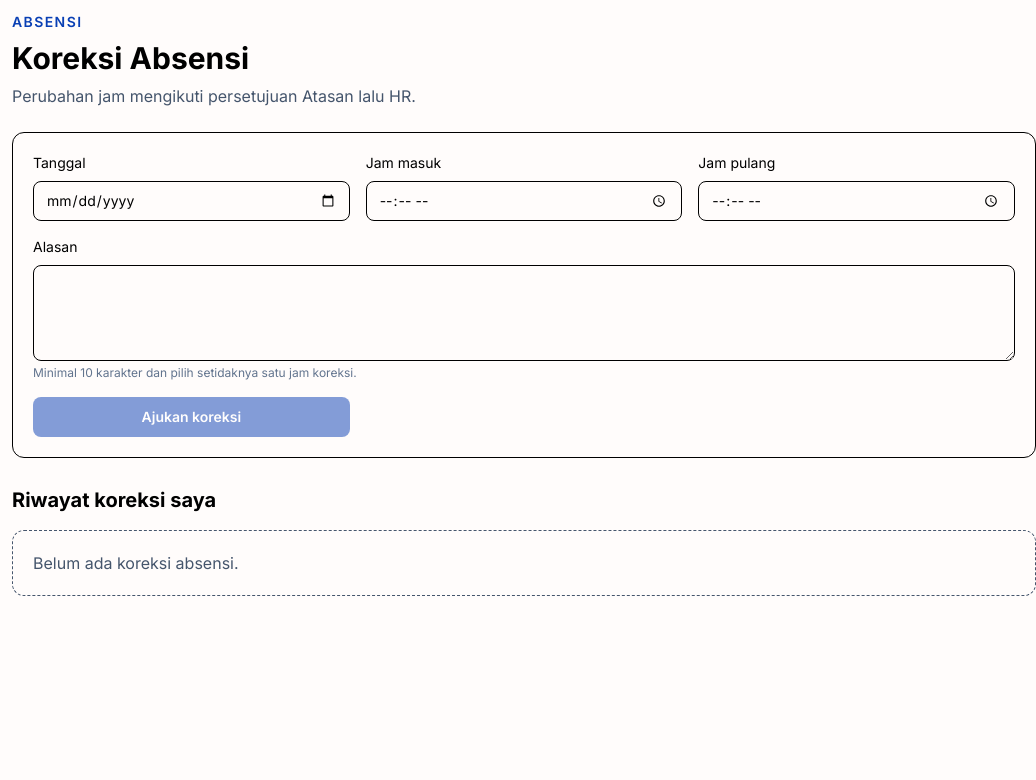
Test: AttendanceCorrectionPage › requires a date, one corrected time, and a meaningful reason
The width and height of the screenshot is (1036, 780).
Expected: the button "Ajukan koreksi" is disabled, [33, 397, 350, 437]
Step 1. Type "2026-08-14" into the date field labelled "Tanggal" → coordinates (191, 201), box [33, 181, 350, 221]
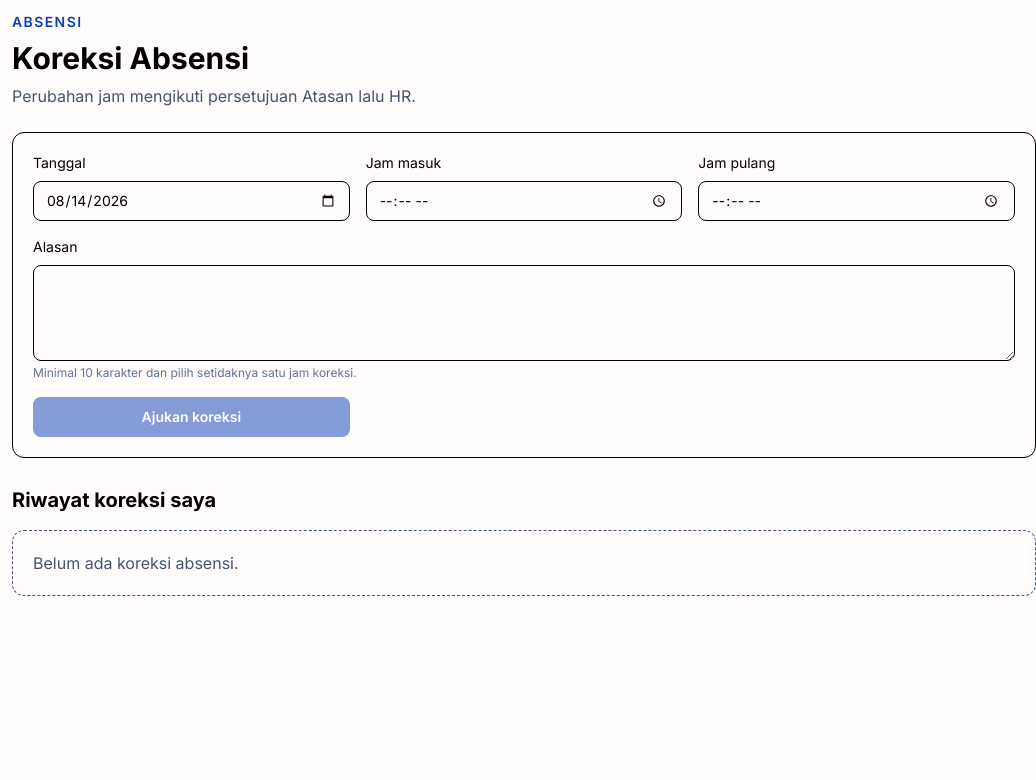
Step 2. Type "09:15" into the time field labelled "Jam masuk" → coordinates (524, 201), box [366, 181, 682, 221]
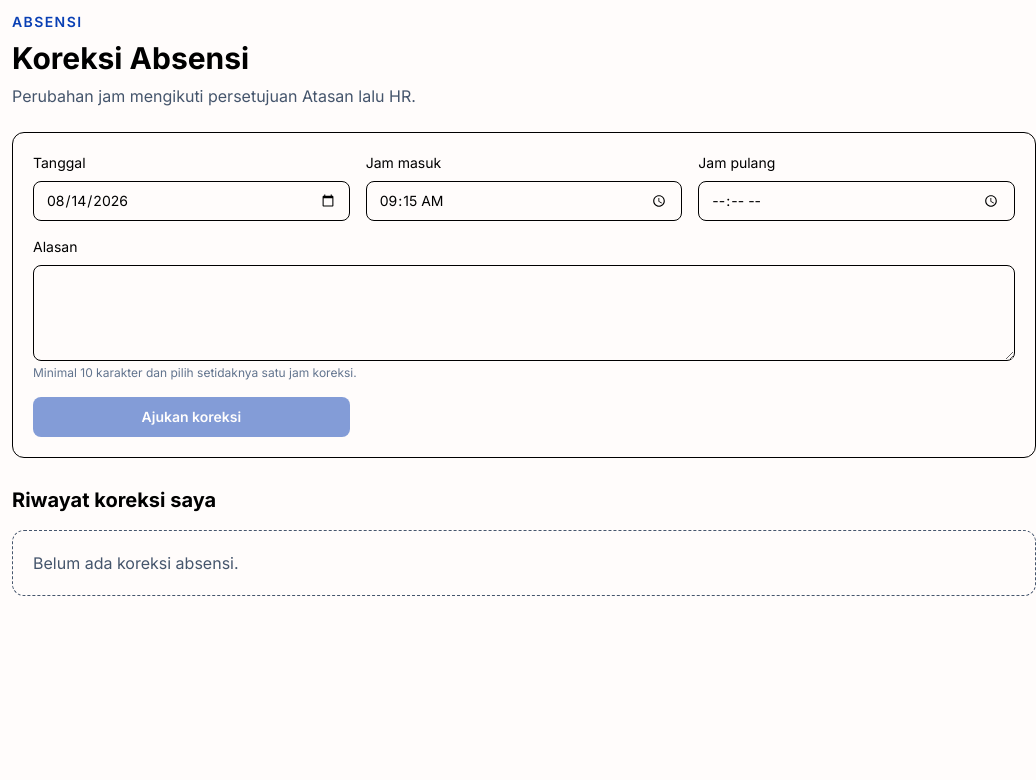
Step 3. Type "Perangkat absensi bermasalah" into the text box labelled "Alasan" → coordinates (524, 313), box [33, 265, 1015, 361]
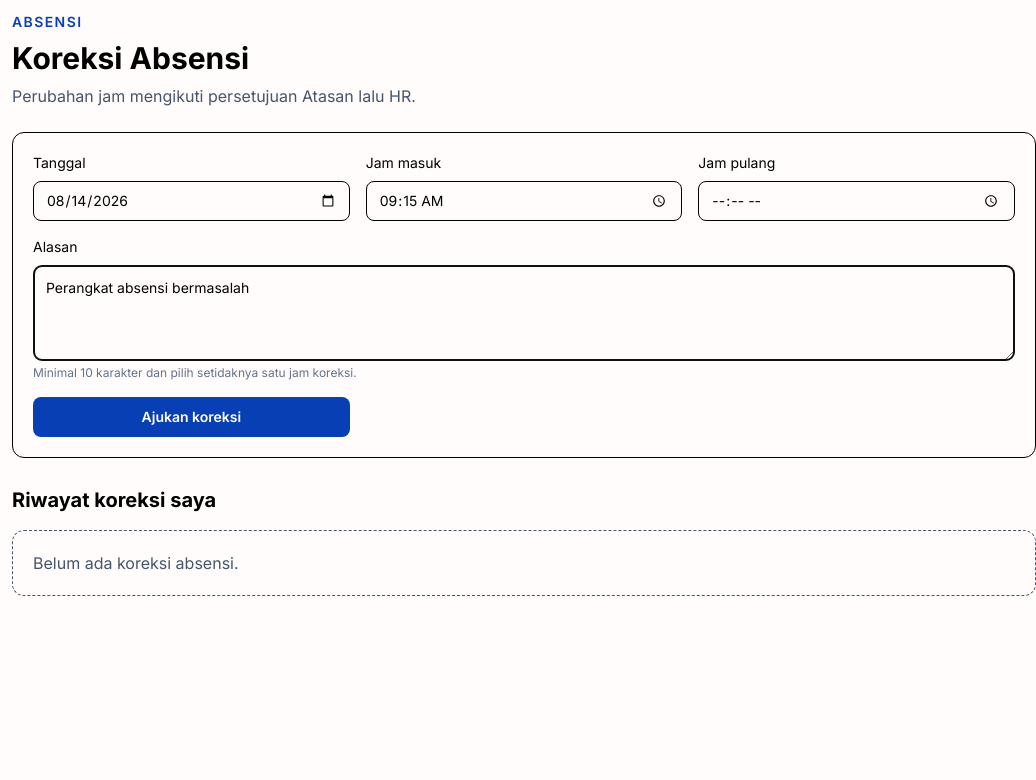
Now the button "Ajukan koreksi" is enabled
Step 4. Click the button "Ajukan koreksi" → coordinates (191, 417), box [33, 397, 350, 437]
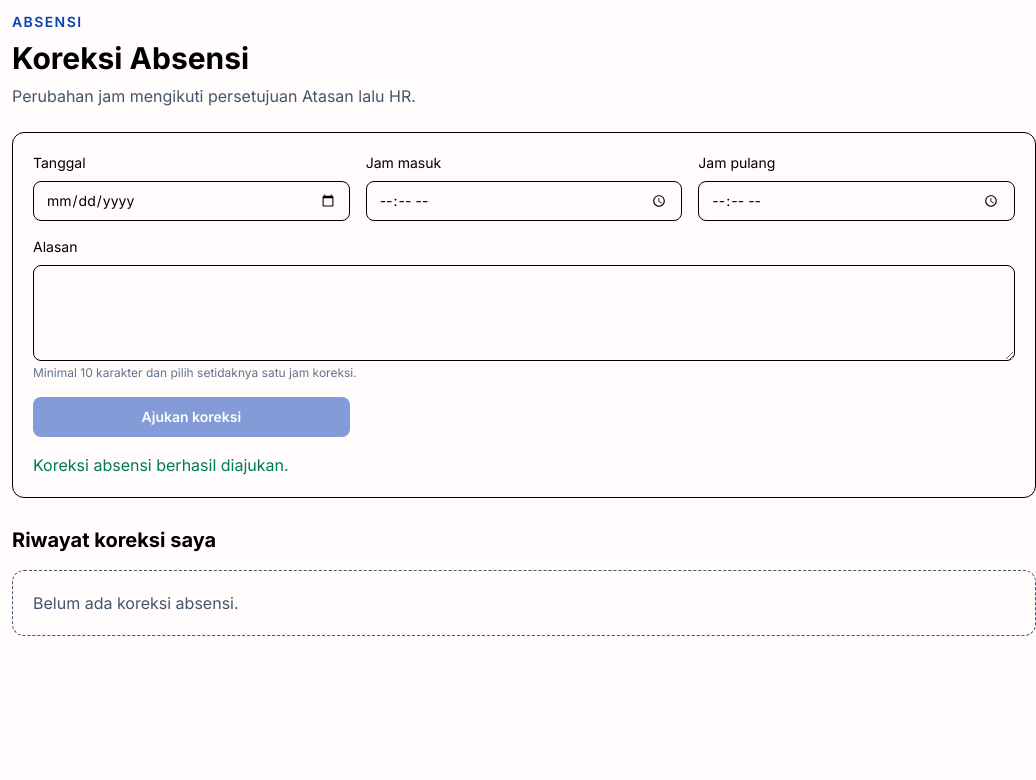
Now the message shows "berhasil diajukan", box [33, 455, 289, 475]
